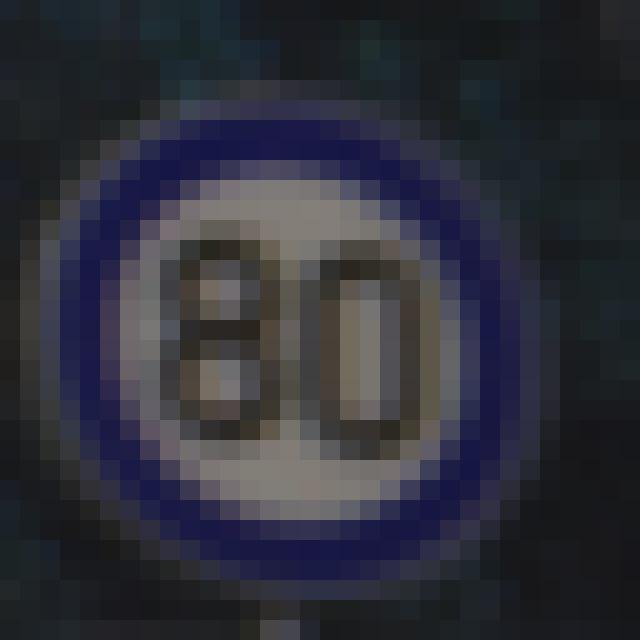SPEED-LIMIT-80: (49, 101, 532, 575)
